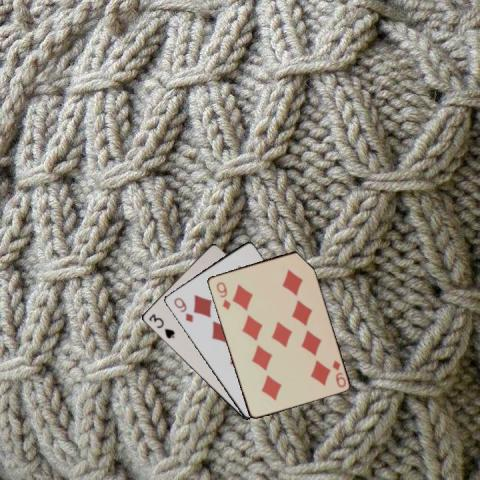3s: (145, 311, 176, 340)
9d: (171, 294, 194, 324), (213, 279, 232, 311), (329, 357, 347, 389)
